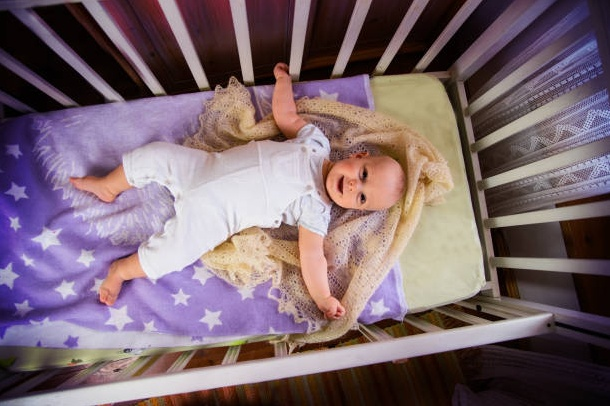baby: (70, 63, 405, 318)
crib: (0, 0, 609, 403)
